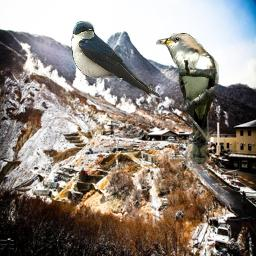Cuckoo: (156, 33, 219, 164)
Swallow: (71, 21, 161, 98)
